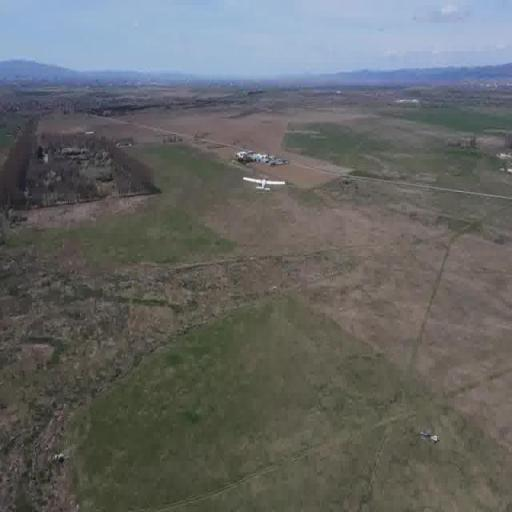uav: (242, 172, 291, 197)
